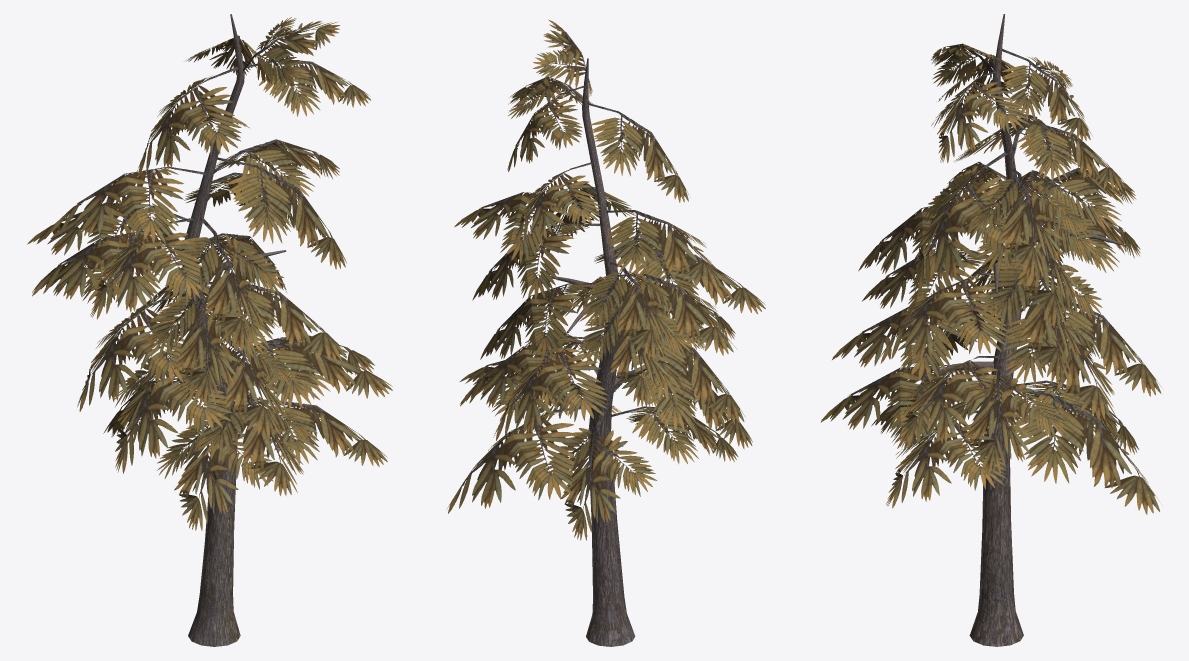
3 renders of one model, left to right at view 1: azimuth 30°, elevation 25°; view 2: azimuth 150°, elevation 25°; view 3: azimuth 270°, elevation 25°, orthographic. The views are drawn at different scales.
Visible parts, largest first — view 1: tree3; view 2: tree3; view 3: tree3.
Part boxes in pixels (left/top/right/bottom): tree3: left=27, top=14, right=392, bottom=646; tree3: left=447, top=19, right=765, bottom=646; tree3: left=820, top=14, right=1162, bottom=646.
Bounding box in the file's own units: 3.78 × 6.5 × 3.42.
Materials: 1 (1 with a texture image).
